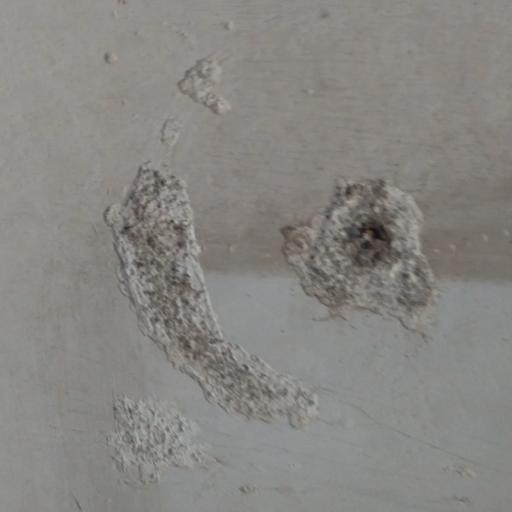spalling: (84, 71, 435, 493)
